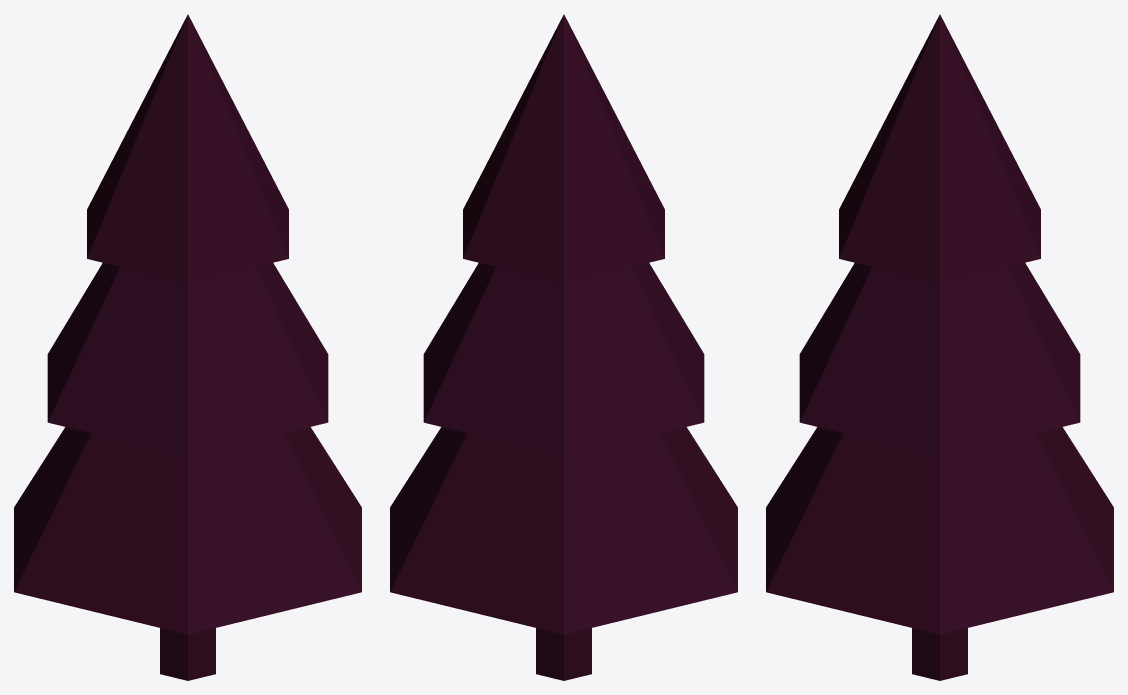
File: tree.glb
The picture shows the model from 3 angles, left to right: view 1: azimuth 30°, elevation 25°; view 2: azimuth 150°, elevation 25°; view 3: azimuth 270°, elevation 25°; orthographic projection.
Visible parts, largest first — view 1: C1, C2, C3, Trunk; view 2: C1, C2, C3, Trunk; view 3: C1, C2, C3, Trunk.
Boxes of the visible parts, <box> form: C1: <box>14,427,361,634</box>; C2: <box>47,263,328,456</box>; C3: <box>87,14,288,283</box>; Trunk: <box>160,628,215,680</box>; C1: <box>390,427,737,634</box>; C2: <box>423,263,704,456</box>; C3: <box>463,14,664,283</box>; Trunk: <box>536,628,591,680</box>; C1: <box>766,427,1113,634</box>; C2: <box>799,263,1080,456</box>; C3: <box>839,14,1040,283</box>; Trunk: <box>912,628,967,680</box>.
Bounding box in the file's own units: 1.24 × 2.23 × 1.07.
